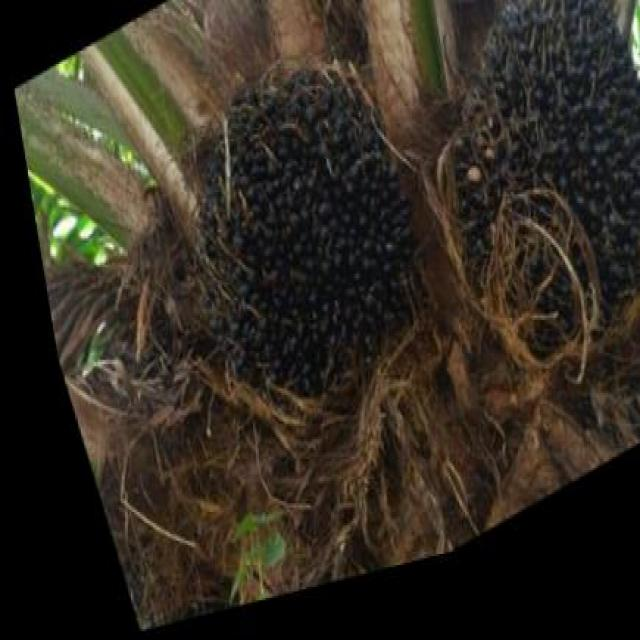Unripe: (137, 36, 441, 456), (378, 0, 640, 430)
